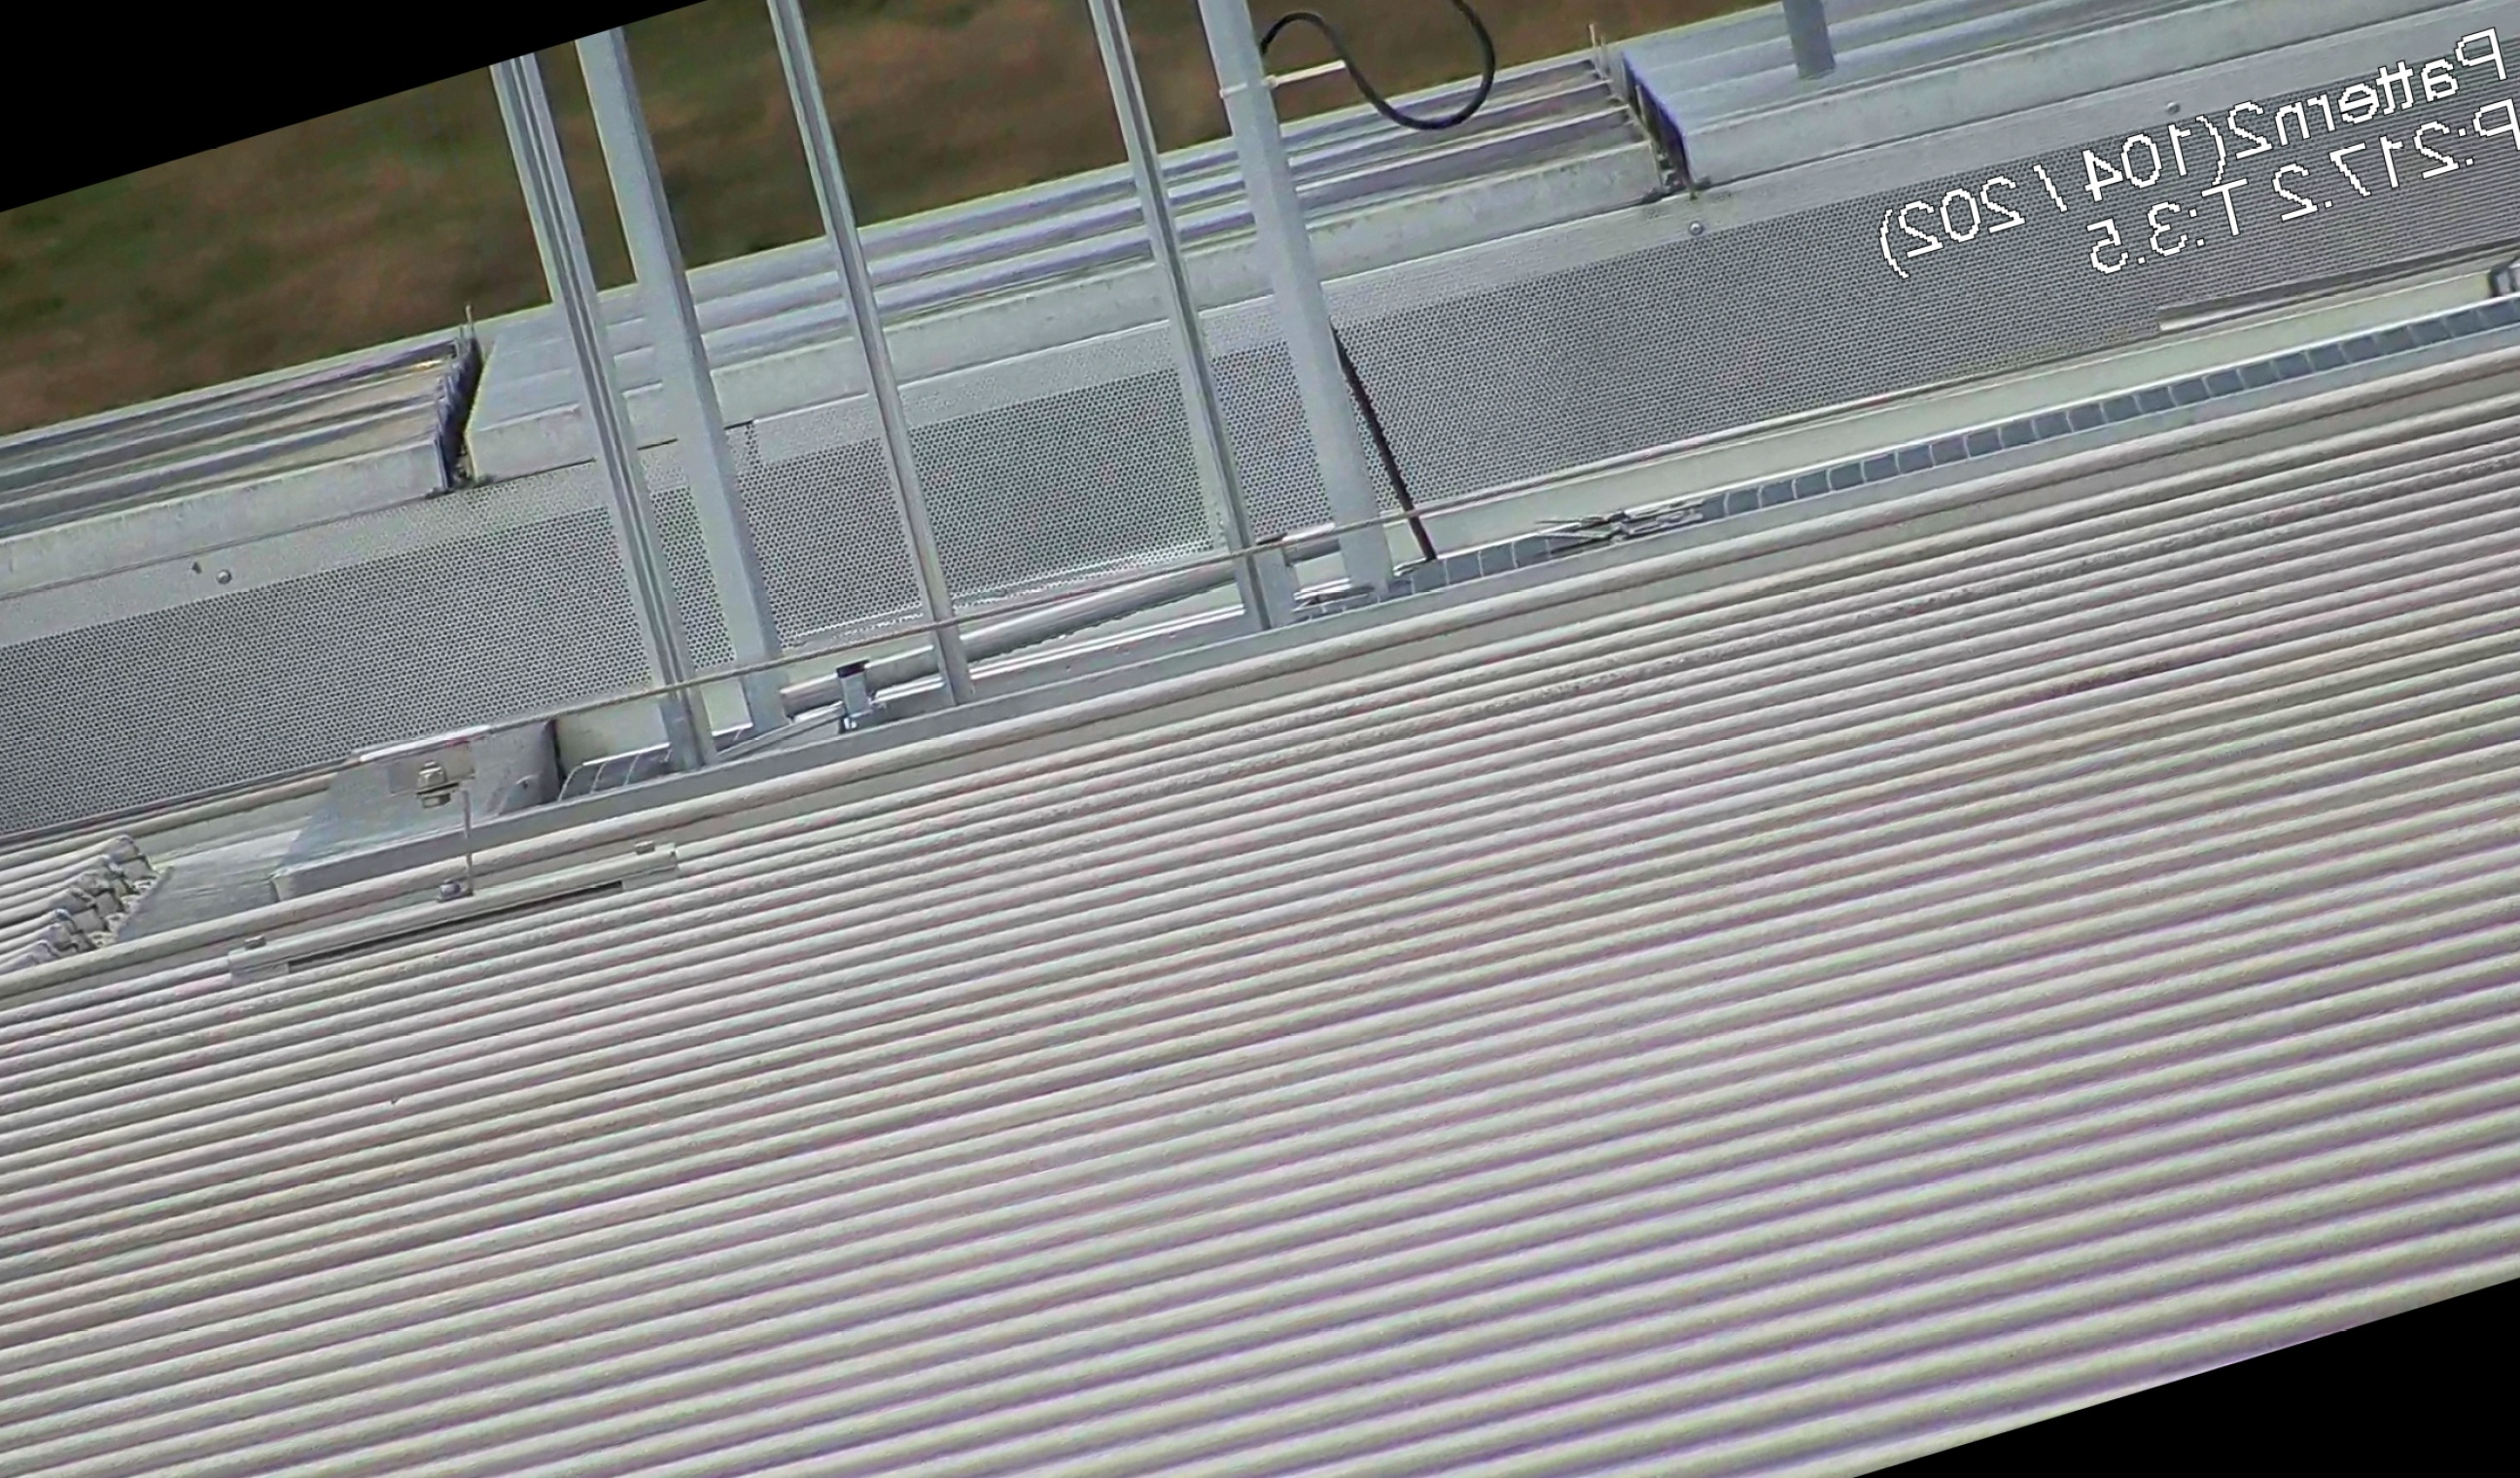Other: (364, 297, 529, 517)
